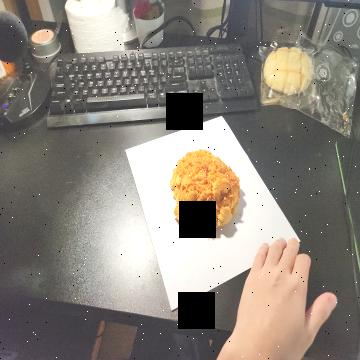soboru_bread: (169, 147, 238, 235)
